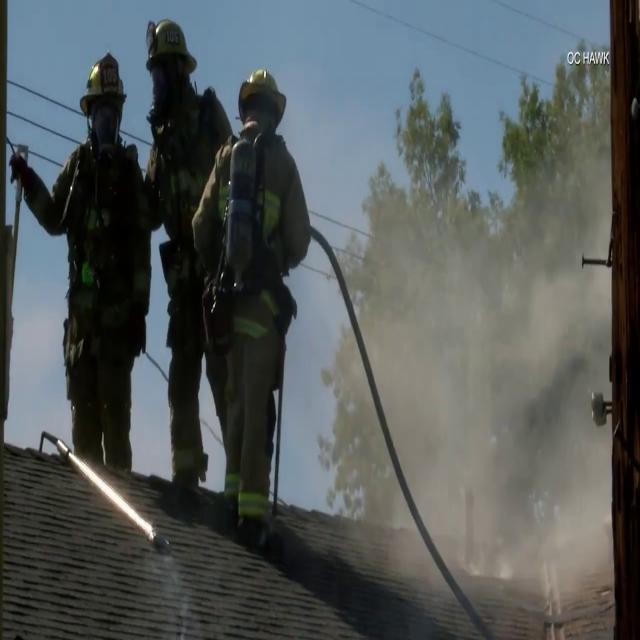Smoke: (320, 150, 610, 616)
